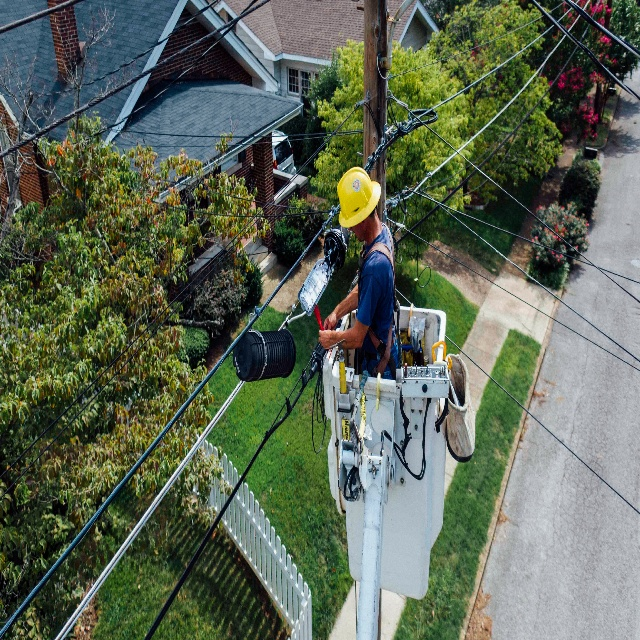Sin_guantes: (318, 328, 336, 349), (323, 310, 339, 330)
